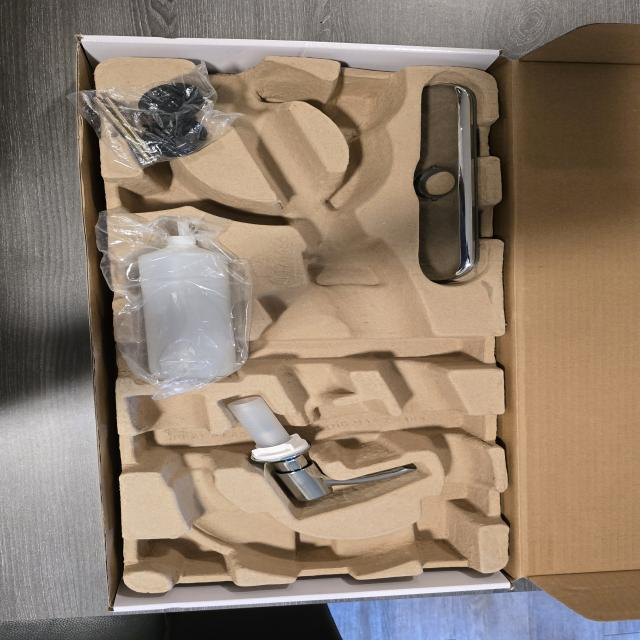1m: (127, 60, 495, 575)
2: (226, 396, 418, 504)
3: (135, 219, 236, 382)
4: (411, 82, 476, 281)
5m: (325, 84, 398, 138)
6m: (123, 164, 247, 218)
7: (64, 60, 244, 174)
